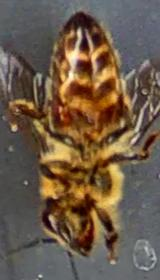varroa_mite: (38, 89, 81, 138)
